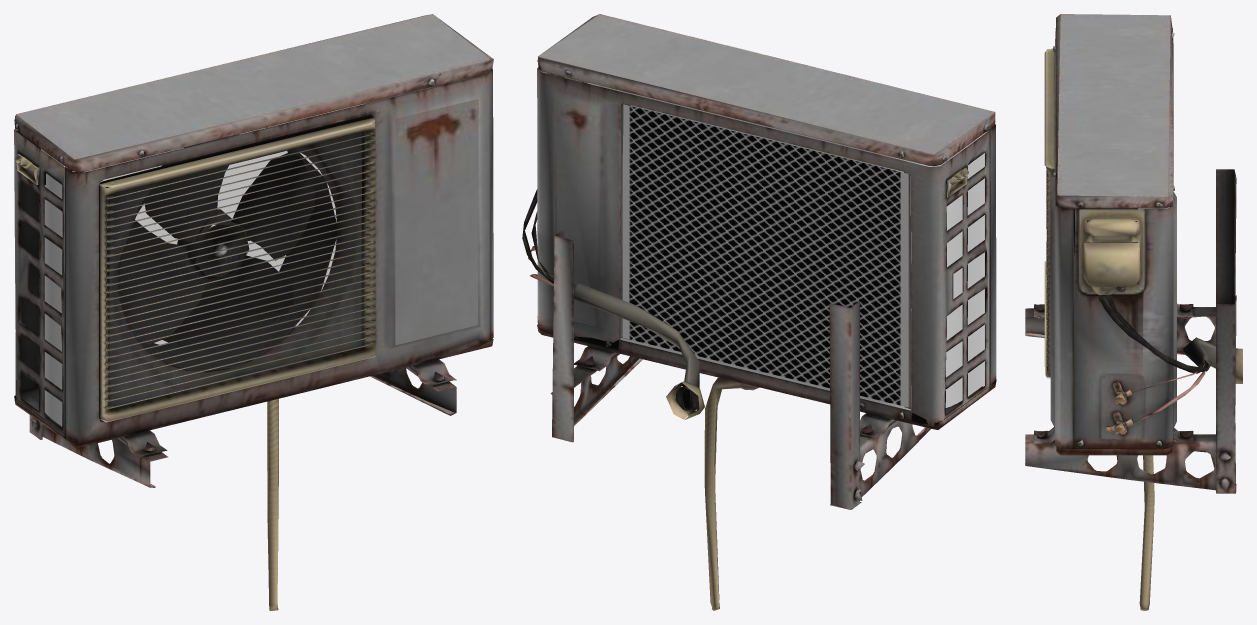
File: aircon_rust.glb
The picture shows the model from 3 angles, left to right: view 1: azimuth 30°, elevation 25°; view 2: azimuth 150°, elevation 25°; view 3: azimuth 270°, elevation 25°; orthographic projection. The views are drawn at different scales.
Visible parts, largest first — view 1: exterior_aircon_unit_rusted; view 2: exterior_aircon_unit_rusted; view 3: exterior_aircon_unit_rusted.
Boxes of the visible parts, bbox=[...] form: exterior_aircon_unit_rusted: bbox=[14, 14, 493, 610]; exterior_aircon_unit_rusted: bbox=[522, 14, 996, 610]; exterior_aircon_unit_rusted: bbox=[1025, 14, 1242, 610].
Bounding box in the file's own units: 0.8001 × 0.9276 × 0.3748.
Materials: 2 (2 with a texture image).
